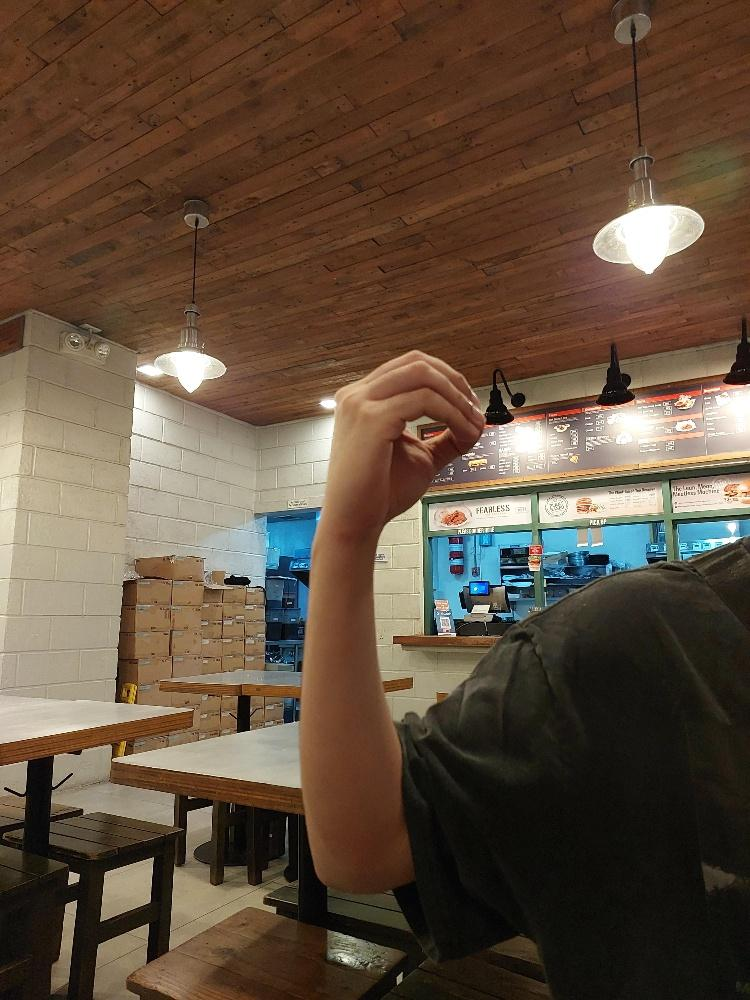o: (322, 347, 487, 546)
